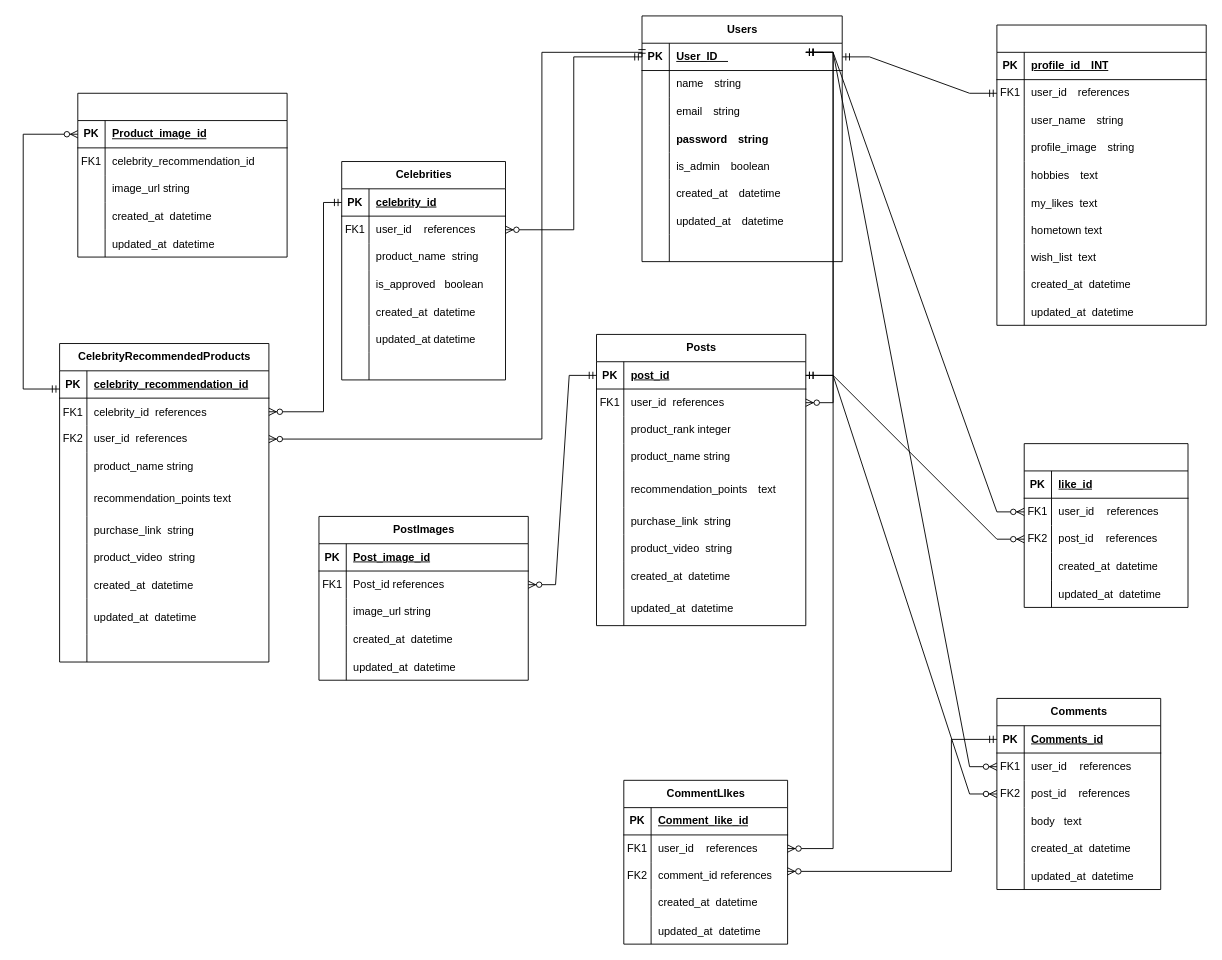
Image size: 1222x960. Some labels were removed from this diagram. Here are the shapes that lost their labels. From the top down, the box of each, then its label:
(77, 92, 287, 257): ProductImages
(996, 24, 1206, 325): Profiles
(1023, 443, 1188, 607): LIkes
